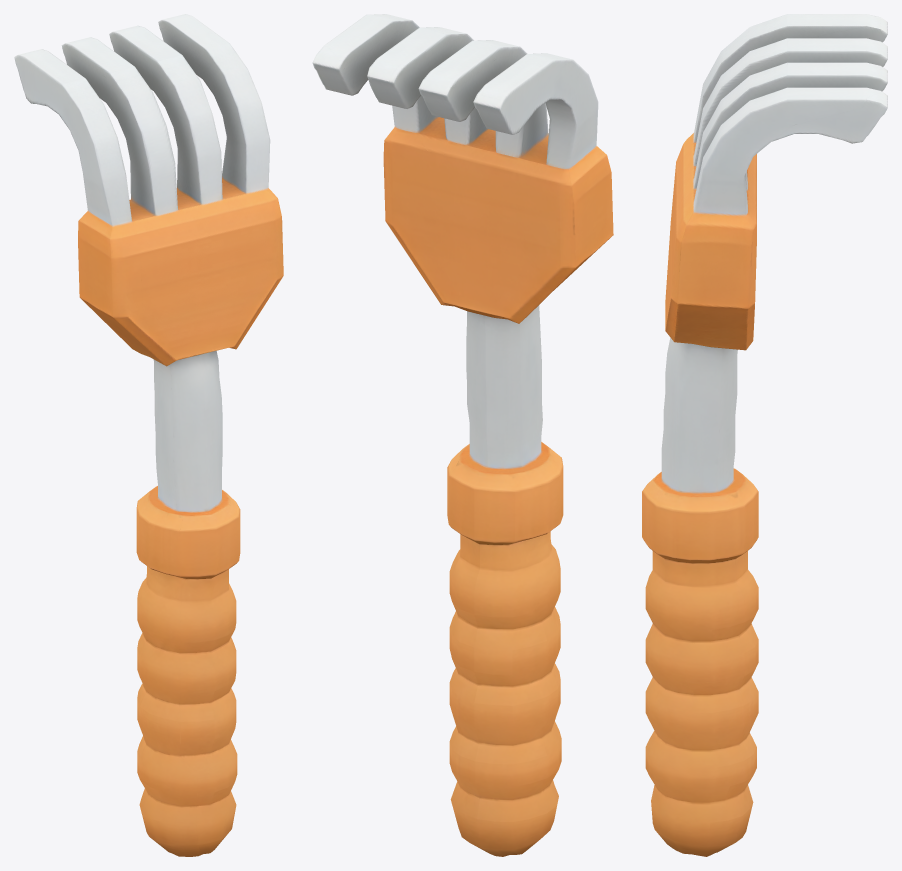
The model's file is base_basic_shaded.fbx.
3 views of the same model, side by side, from view 1: azimuth 30°, elevation 25°; view 2: azimuth 150°, elevation 25°; view 3: azimuth 270°, elevation 25° (orthographic). The views are drawn at different scales.
Visible parts, largest first — view 1: model; view 2: model; view 3: model.
Part boxes in pixels (x1,y1,x2,y2): model: (14,14,283,856); model: (312,14,613,856); model: (642,14,887,856).
Bounding box in the file's own units: 44.85 × 190 × 53.43.
